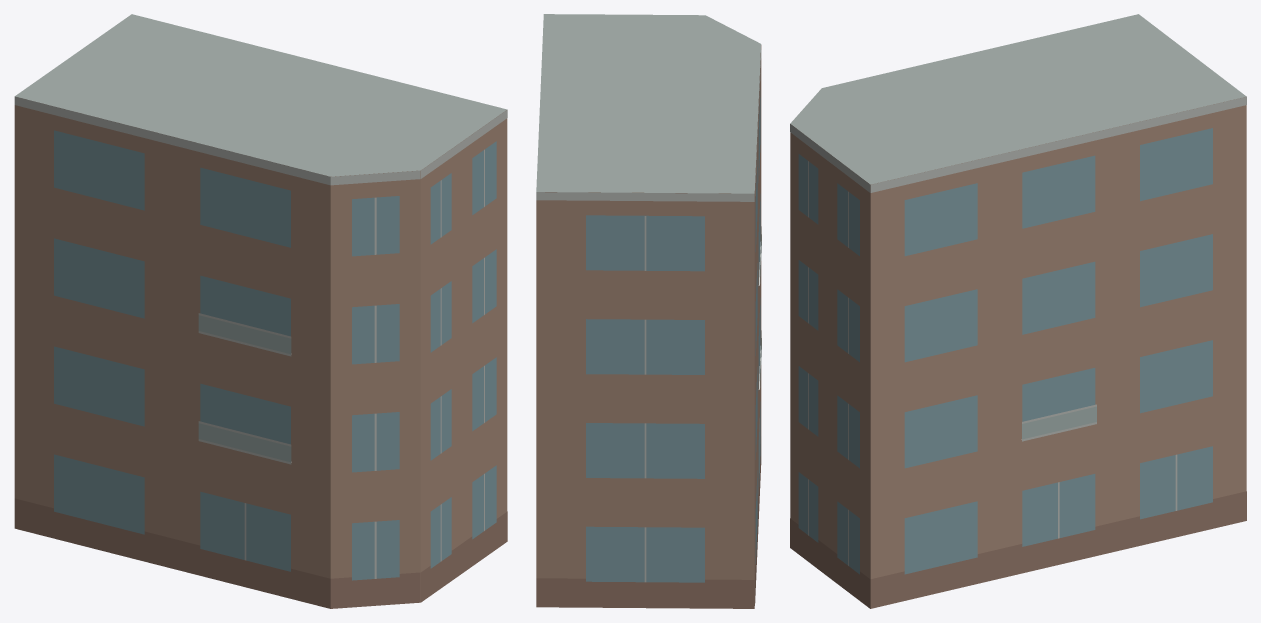
Rendered from residential-046b2e7f-a6bd-4222-b6f6-678fcd5468ef.glb.
The picture shows the model from 3 angles, left to right: view 1: azimuth 30°, elevation 25°; view 2: azimuth 150°, elevation 25°; view 3: azimuth 270°, elevation 25°; orthographic projection. The views are drawn at different scales.
Parts seen in each view (by area): view 1: residential-046b2e7f-a6bd-4222-b6f6-678fcd5468ef.tmp; view 2: residential-046b2e7f-a6bd-4222-b6f6-678fcd5468ef.tmp; view 3: residential-046b2e7f-a6bd-4222-b6f6-678fcd5468ef.tmp.
Boxes of the visible parts, box(x1,y1,x2,y2) form: residential-046b2e7f-a6bd-4222-b6f6-678fcd5468ef.tmp: box(14, 14, 507, 608); residential-046b2e7f-a6bd-4222-b6f6-678fcd5468ef.tmp: box(536, 14, 761, 608); residential-046b2e7f-a6bd-4222-b6f6-678fcd5468ef.tmp: box(790, 14, 1246, 608).
Size of the model in its own units: 10.53 by 12.2 by 11.91.
